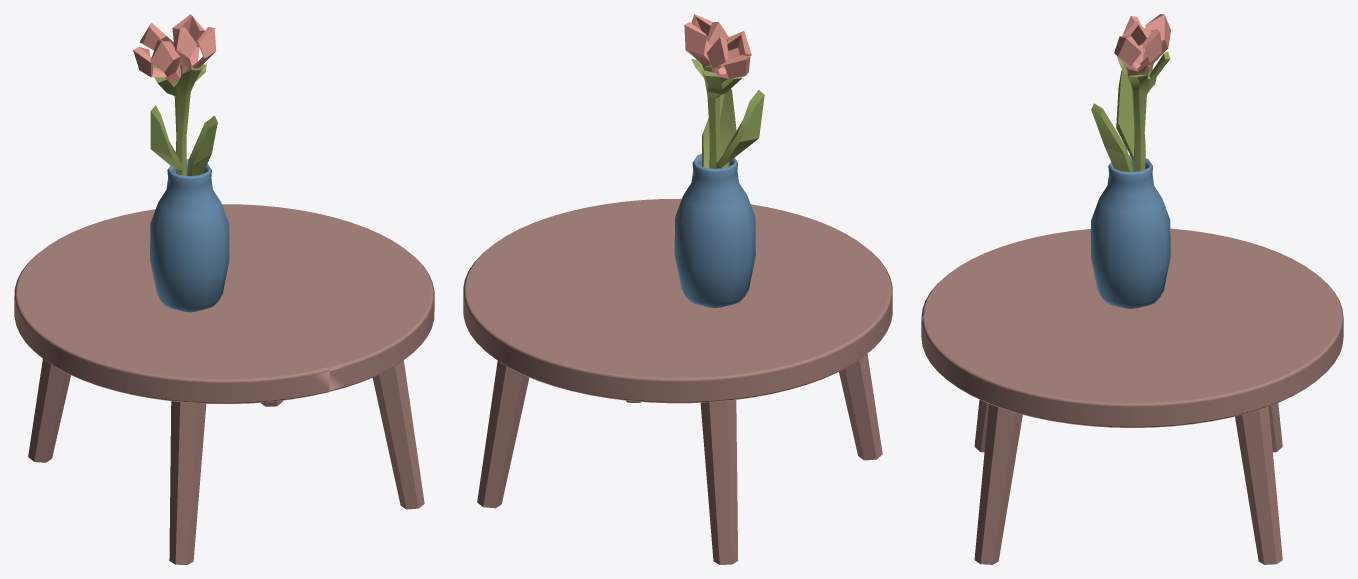
File: circle-table-transformed.glb
The picture shows the model from 3 angles, left to right: view 1: azimuth 30°, elevation 25°; view 2: azimuth 150°, elevation 25°; view 3: azimuth 270°, elevation 25°; orthographic projection. The views are drawn at different scales.
Parts seen in each view (by area): view 1: Cylinder.007, Merged Geometry.030, Cylinder 12, Cylinder 9, Cylinder 11, Cylinder 10; view 2: Cylinder.007, Merged Geometry.030, Cylinder 12, Cylinder 9, Cylinder 11, Cylinder 10; view 3: Cylinder.007, Merged Geometry.030, Cylinder 12, Cylinder 9, Cylinder 10, Cylinder 11.
Part boxes in pixels (box(x1,y1,x2,y2)): Cylinder.007: box(14, 204, 434, 403); Merged Geometry.030: box(28, 359, 424, 564); Cylinder 12: box(150, 159, 229, 312); Cylinder 9: box(150, 63, 217, 175); Cylinder 11: box(133, 22, 181, 84); Cylinder 10: box(172, 14, 216, 75); Cylinder.007: box(463, 198, 892, 403); Merged Geometry.030: box(477, 353, 882, 564); Cylinder 12: box(674, 153, 755, 307); Cylinder 9: box(691, 59, 764, 168); Cylinder 11: box(706, 31, 751, 83); Cylinder 10: box(684, 14, 728, 69); Cylinder.007: box(921, 228, 1343, 427); Merged Geometry.030: box(974, 399, 1282, 564); Cylinder 12: box(1091, 155, 1170, 308); Cylinder 9: box(1091, 51, 1170, 171); Cylinder 10: box(1114, 21, 1162, 76); Cylinder 11: box(1122, 14, 1170, 73).
Size of the model in its own units: 0.9748 by 1.18 by 0.9748.
